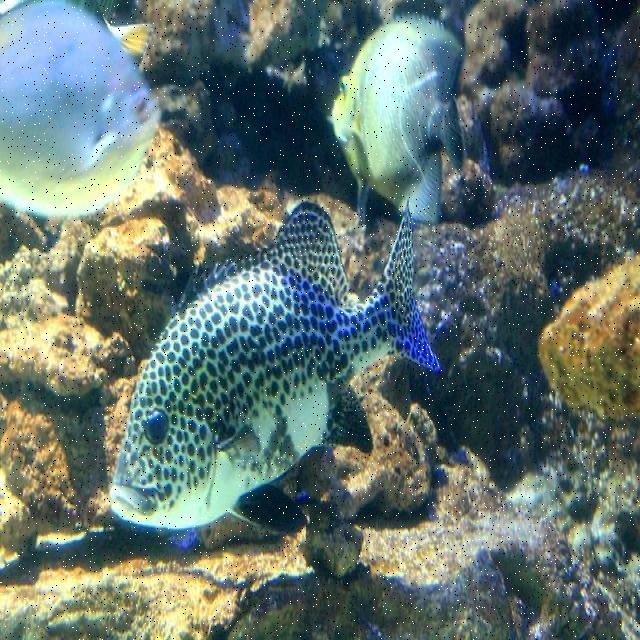fish: (110, 201, 442, 531), (325, 14, 467, 226), (39, 5, 161, 219)
